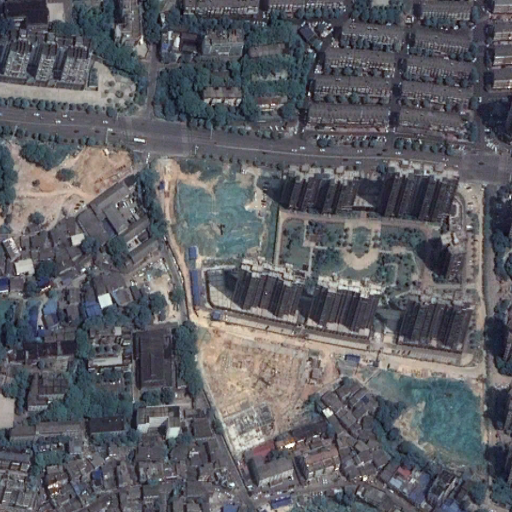cw: (365, 369, 487, 469), (165, 162, 273, 268)
